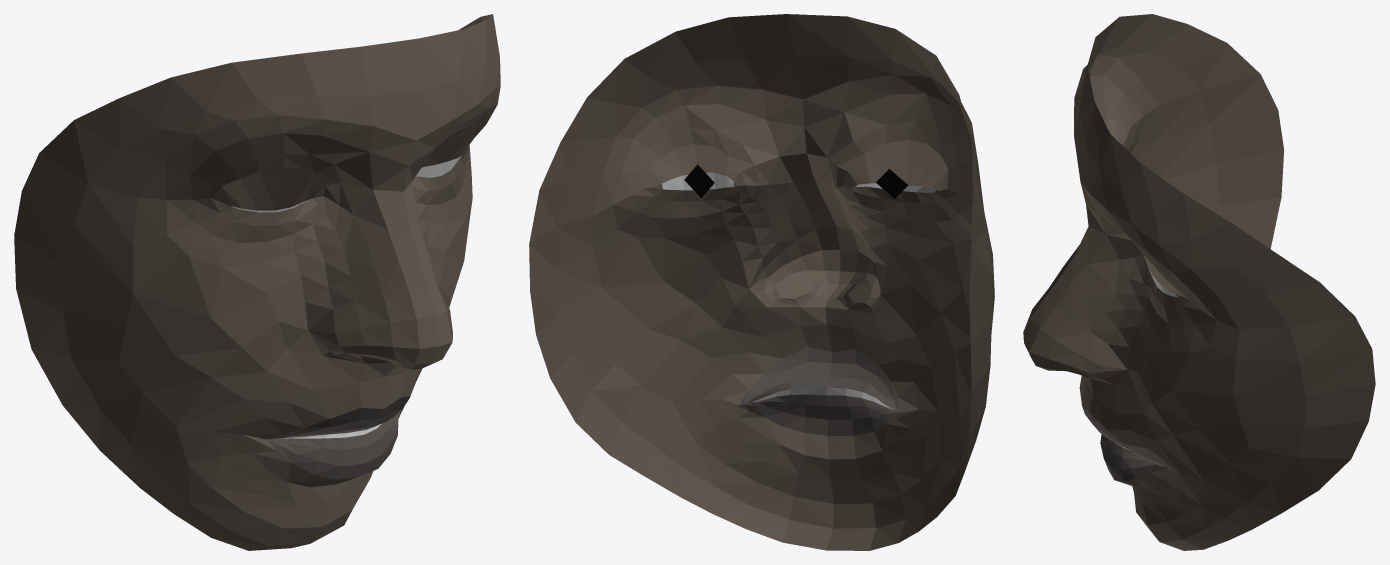
Rendered from IMG_0048.obj.
3 renders of one model, left to right at view 1: azimuth 30°, elevation 25°; view 2: azimuth 150°, elevation 25°; view 3: azimuth 270°, elevation 25°, orthographic. The views are drawn at different scales.
Visible parts, largest first — view 1: face_model_with_iris; view 2: face_model_with_iris; view 3: face_model_with_iris.
Boxes of the visible parts, bbox=[...] form: face_model_with_iris: bbox=[14, 14, 500, 550]; face_model_with_iris: bbox=[529, 14, 994, 550]; face_model_with_iris: bbox=[1023, 14, 1375, 550].
Size of the model in its own units: 0.8701 by 1 by 0.6608.
